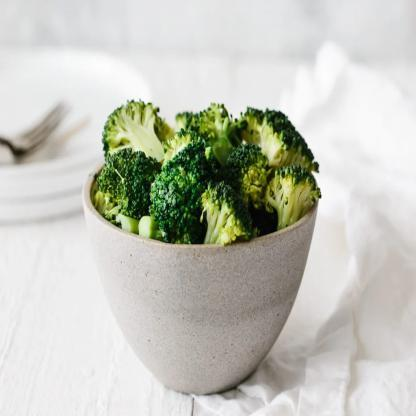broccoli: (94, 97, 321, 244)
